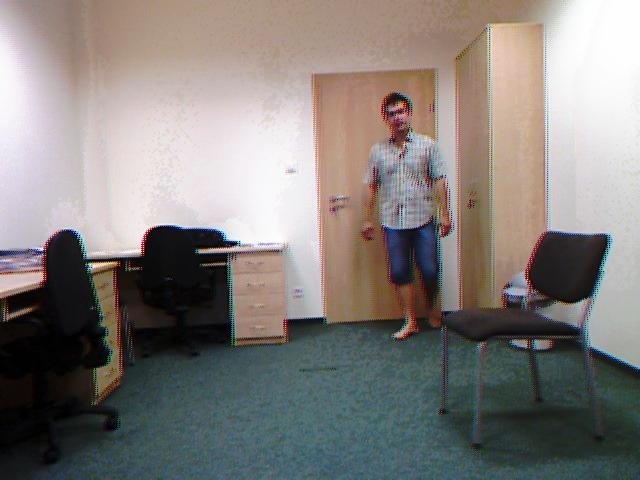standing: (361, 88, 447, 341)
